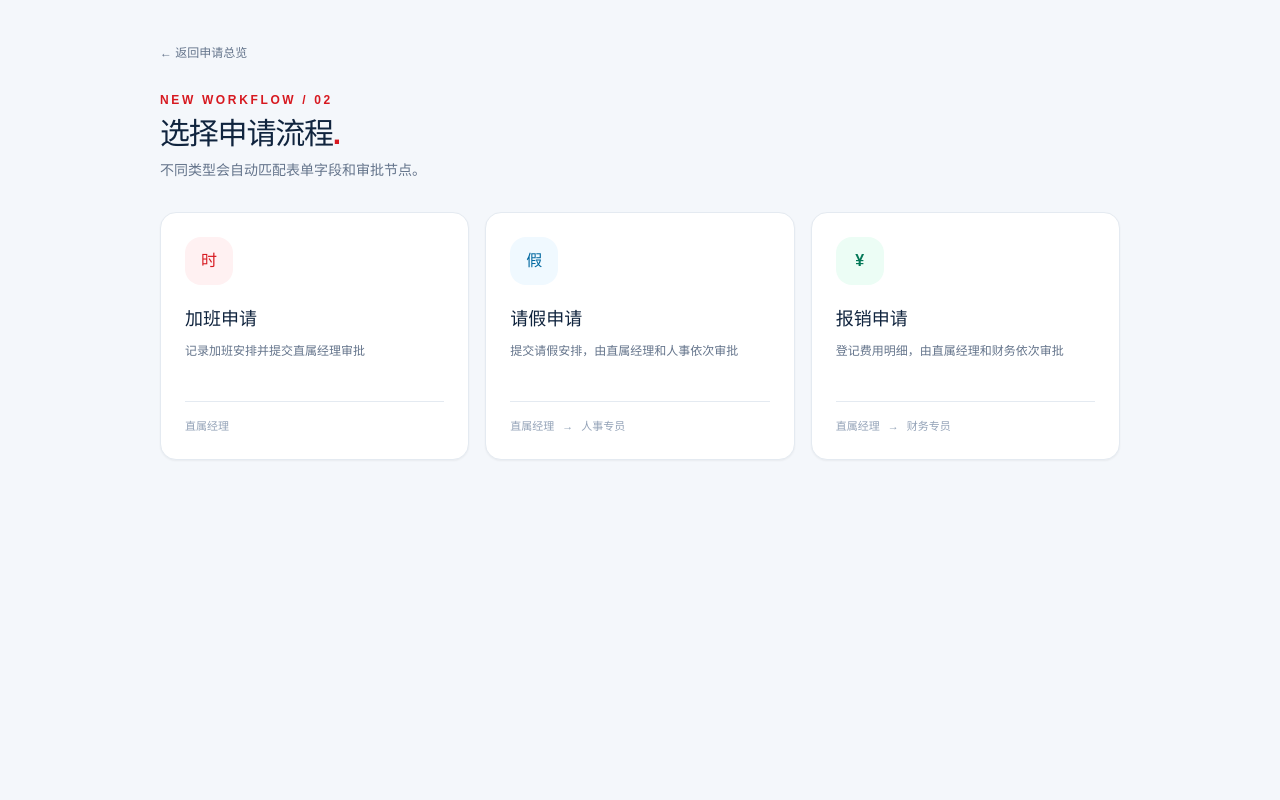
Scenario: new application page › starts with three process choices and renders the selected fields
Check: the heading "选择申请流程." is shown, box [160,117,340,150]
Click the button "时 加班申请 记录加班安排并提交直属经理审批 直属经理": (209, 261) [160,212,469,460]
(page scrolled)
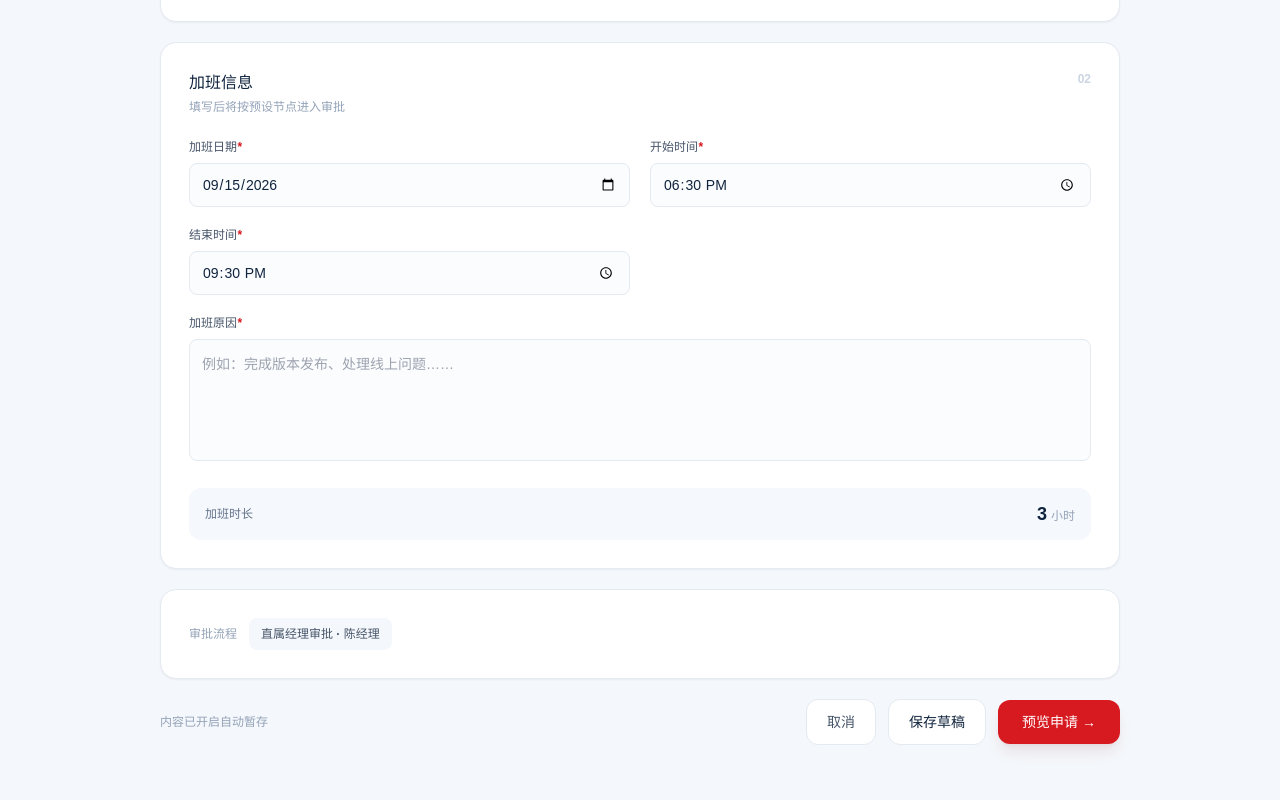
Check: the text box labelled "加班原因*" is shown, box [189,339,1091,461]
